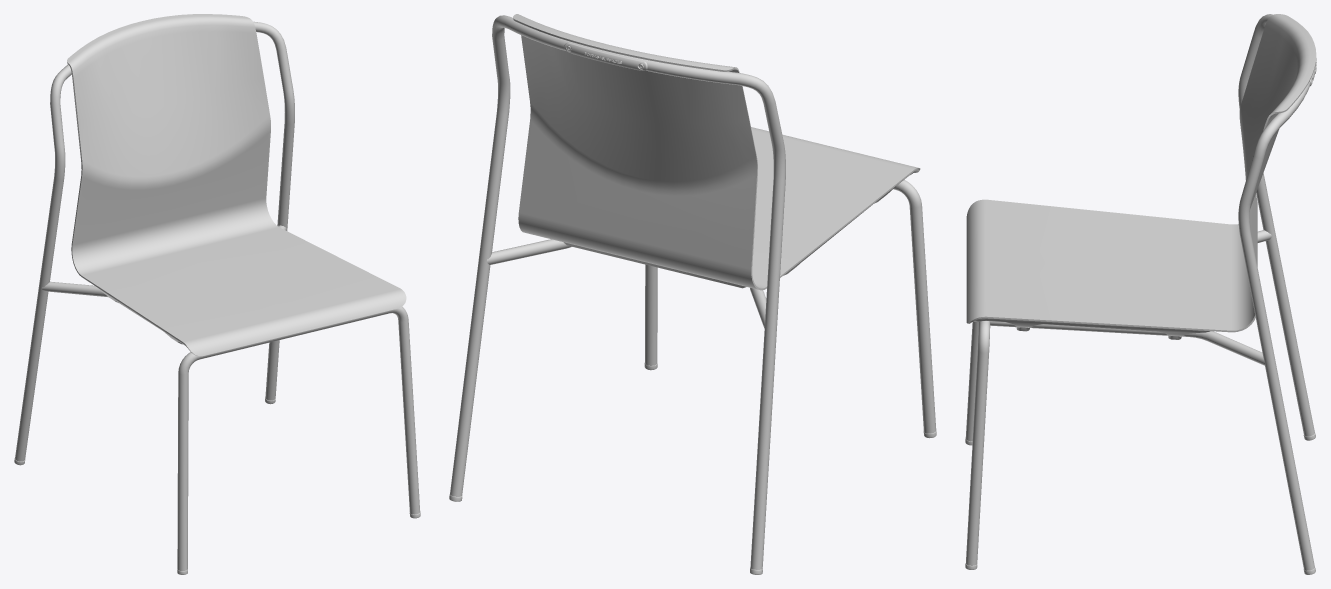
The model's file is Factor_Table_Aluminum_Armless_Chairs.glb.
The picture shows the model from 3 angles, left to right: view 1: azimuth 30°, elevation 25°; view 2: azimuth 150°, elevation 25°; view 3: azimuth 270°, elevation 25°; orthographic projection. The views are drawn at different scales.
Visible parts, largest first — view 1: Factor_Table_Aluminum_Armless_Chairs; view 2: Factor_Table_Aluminum_Armless_Chairs; view 3: Factor_Table_Aluminum_Armless_Chairs.
Boxes of the visible parts, x1,y1,x2,y2 form: Factor_Table_Aluminum_Armless_Chairs: [14, 14, 420, 574]; Factor_Table_Aluminum_Armless_Chairs: [449, 14, 936, 574]; Factor_Table_Aluminum_Armless_Chairs: [965, 14, 1316, 574].
Size of the model in its own units: 0.5553 by 0.8365 by 0.5907.
Materials: 1 (1 with a texture image).
